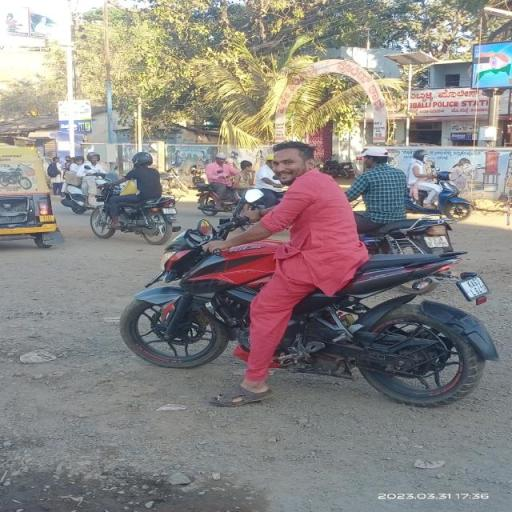bike: (120, 138, 506, 404)
numberplate: (456, 267, 494, 301)
withouthelmet: (273, 142, 313, 180)
